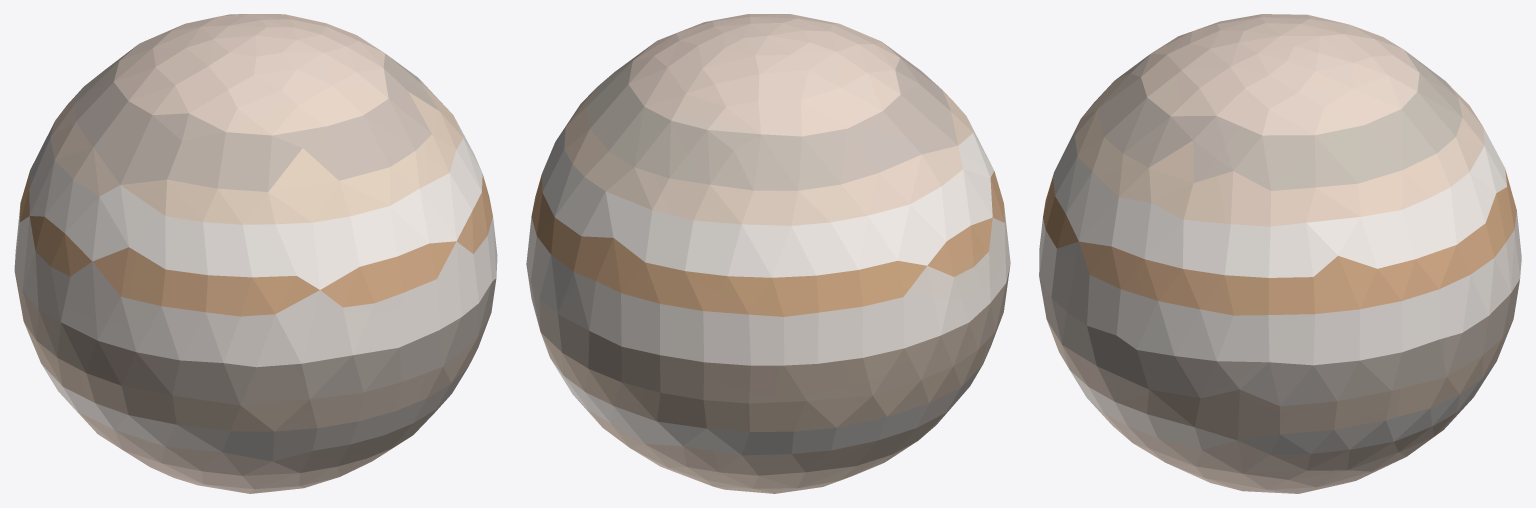
File: Jupiter-transformed.glb
The picture shows the model from 3 angles, left to right: view 1: azimuth 30°, elevation 25°; view 2: azimuth 150°, elevation 25°; view 3: azimuth 270°, elevation 25°; orthographic projection.
Visible parts, largest first — view 1: Jupiter_Sphere; view 2: Jupiter_Sphere; view 3: Jupiter_Sphere.
Boxes of the visible parts, x1,y1,x2,y2 form: Jupiter_Sphere: (14,14,497,493); Jupiter_Sphere: (526,14,1010,493); Jupiter_Sphere: (1039,14,1521,493).
Size of the model in its own units: 17 by 16.97 by 16.98.
1 material, 1 textured.
